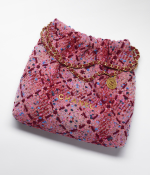channel: (23, 18, 135, 151), (50, 87, 101, 112)
